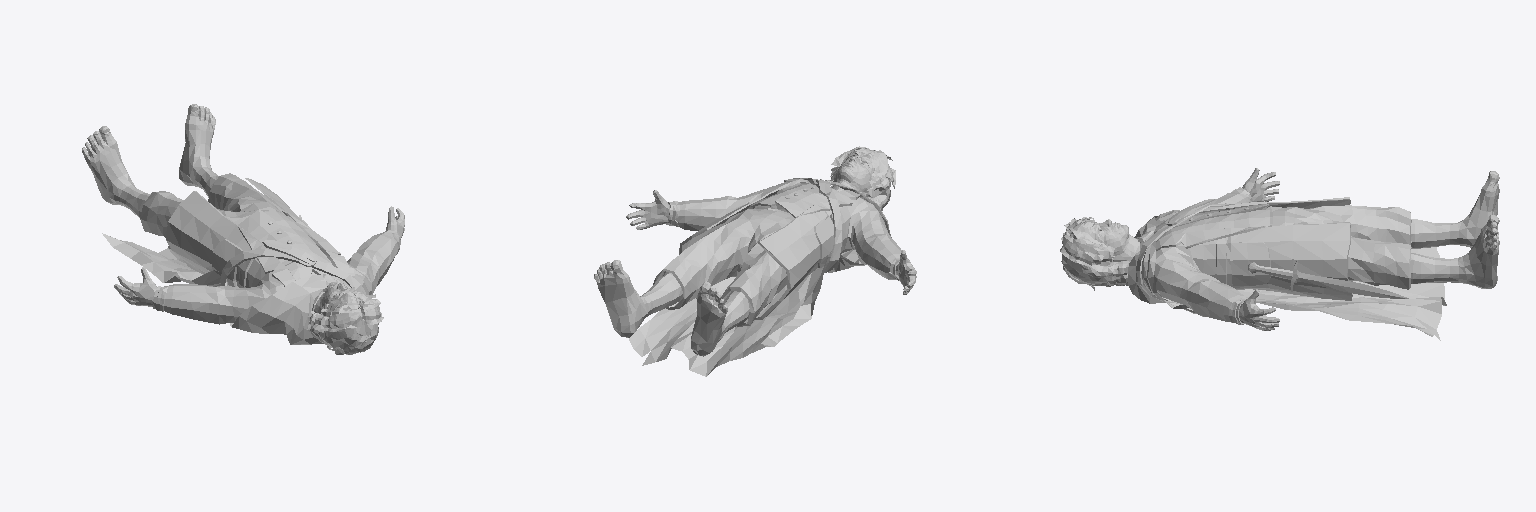
The model's file is generic_item.mesh.obj.
The picture shows the model from 3 angles: view 1: azimuth 30°, elevation 25°; view 2: azimuth 150°, elevation 25°; view 3: azimuth 270°, elevation 25°; orthographic projection.
Visible parts, largest first — view 1: 4_slowclothes_0.2_0.0_0.0, 4_slowskin_0.2_0.0_0.0, 4_slowcape_0.2_0.0_0.0, 6_slowhair_0.2_0.0_0.0, 7_slowhair2_0.2_0.0_0.0; view 2: 4_slowclothes_0.2_0.0_0.0, 4_slowskin_0.2_0.0_0.0, 4_slowcape_0.2_0.0_0.0, 6_slowhair_0.2_0.0_0.0; view 3: 4_slowclothes_0.2_0.0_0.0, 4_slowskin_0.2_0.0_0.0, 4_slowcape_0.2_0.0_0.0, 6_slowhair_0.2_0.0_0.0, 4_slowsword_0.2_0.0_0.0, 7_slowhair2_0.2_0.0_0.0.
Part boxes in pixels (x1,y1,x2,y2): 4_slowclothes_0.2_0.0_0.0: (140,173,400,324); 4_slowskin_0.2_0.0_0.0: (82,104,404,313); 4_slowcape_0.2_0.0_0.0: (102,233,372,344); 6_slowhair_0.2_0.0_0.0: (308,287,383,354); 7_slowhair2_0.2_0.0_0.0: (308,289,383,354); 4_slowclothes_0.2_0.0_0.0: (653,178,901,326); 4_slowskin_0.2_0.0_0.0: (594,155,916,356); 4_slowcape_0.2_0.0_0.0: (629,178,891,376); 6_slowhair_0.2_0.0_0.0: (830,146,895,210); 4_slowclothes_0.2_0.0_0.0: (1134,187,1411,324); 4_slowskin_0.2_0.0_0.0: (1094,168,1499,330); 4_slowcape_0.2_0.0_0.0: (1128,216,1446,340); 6_slowhair_0.2_0.0_0.0: (1060,217,1129,290); 4_slowsword_0.2_0.0_0.0: (1248,260,1408,298); 7_slowhair2_0.2_0.0_0.0: (1060,217,1130,288).
Bounding box in the file's own units: 1.24 × 0.5208 × 1.66.